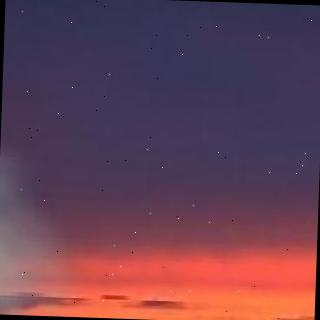smoke: (0, 113, 90, 317)
